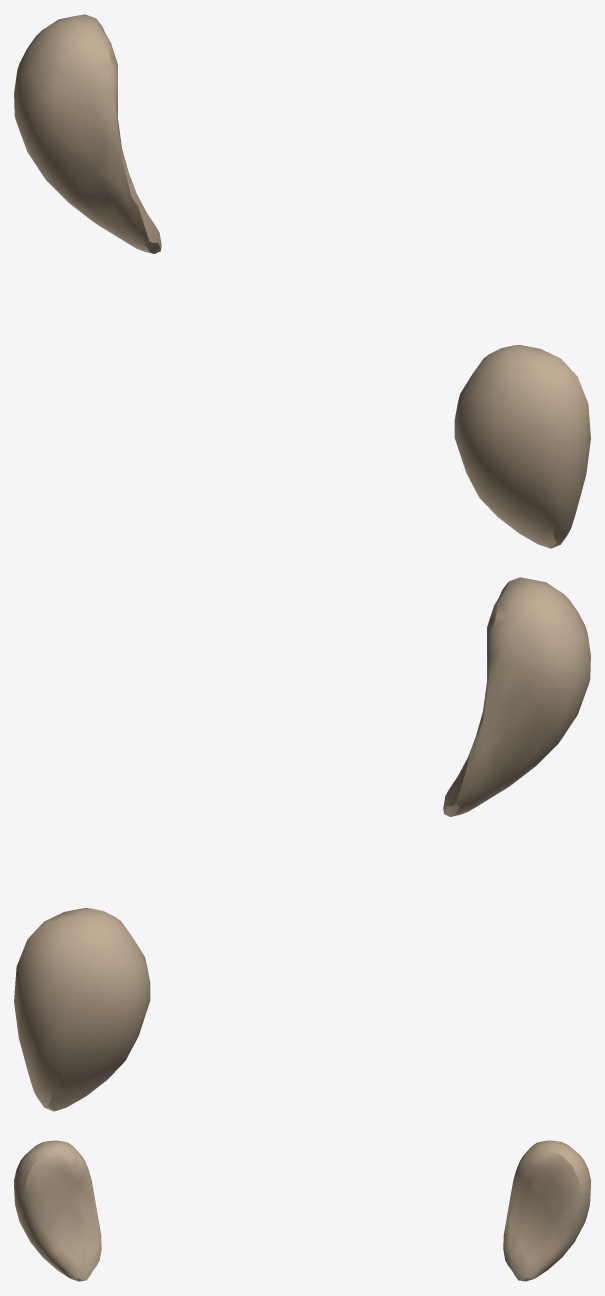
Rendered from Ears.glb.
The picture shows the model from 3 angles, top to bottom: view 1: azimuth 30°, elevation 25°; view 2: azimuth 150°, elevation 25°; view 3: azimuth 270°, elevation 25°; orthographic projection. The views are drawn at different scales.
Visible parts, largest first — view 1: Ears; view 2: Ears; view 3: Ears.
Boxes of the visible parts, bbox=[...] form: Ears: bbox=[14, 14, 590, 548]; Ears: bbox=[14, 577, 590, 1111]; Ears: bbox=[14, 1140, 590, 1281].
Size of the model in its own units: 0.1359 by 0.2445 by 1.03.
